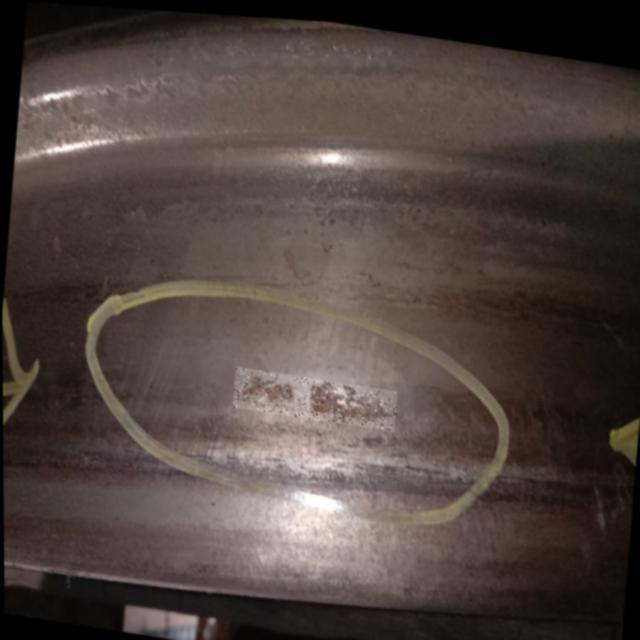Peeling: (233, 364, 398, 428)
